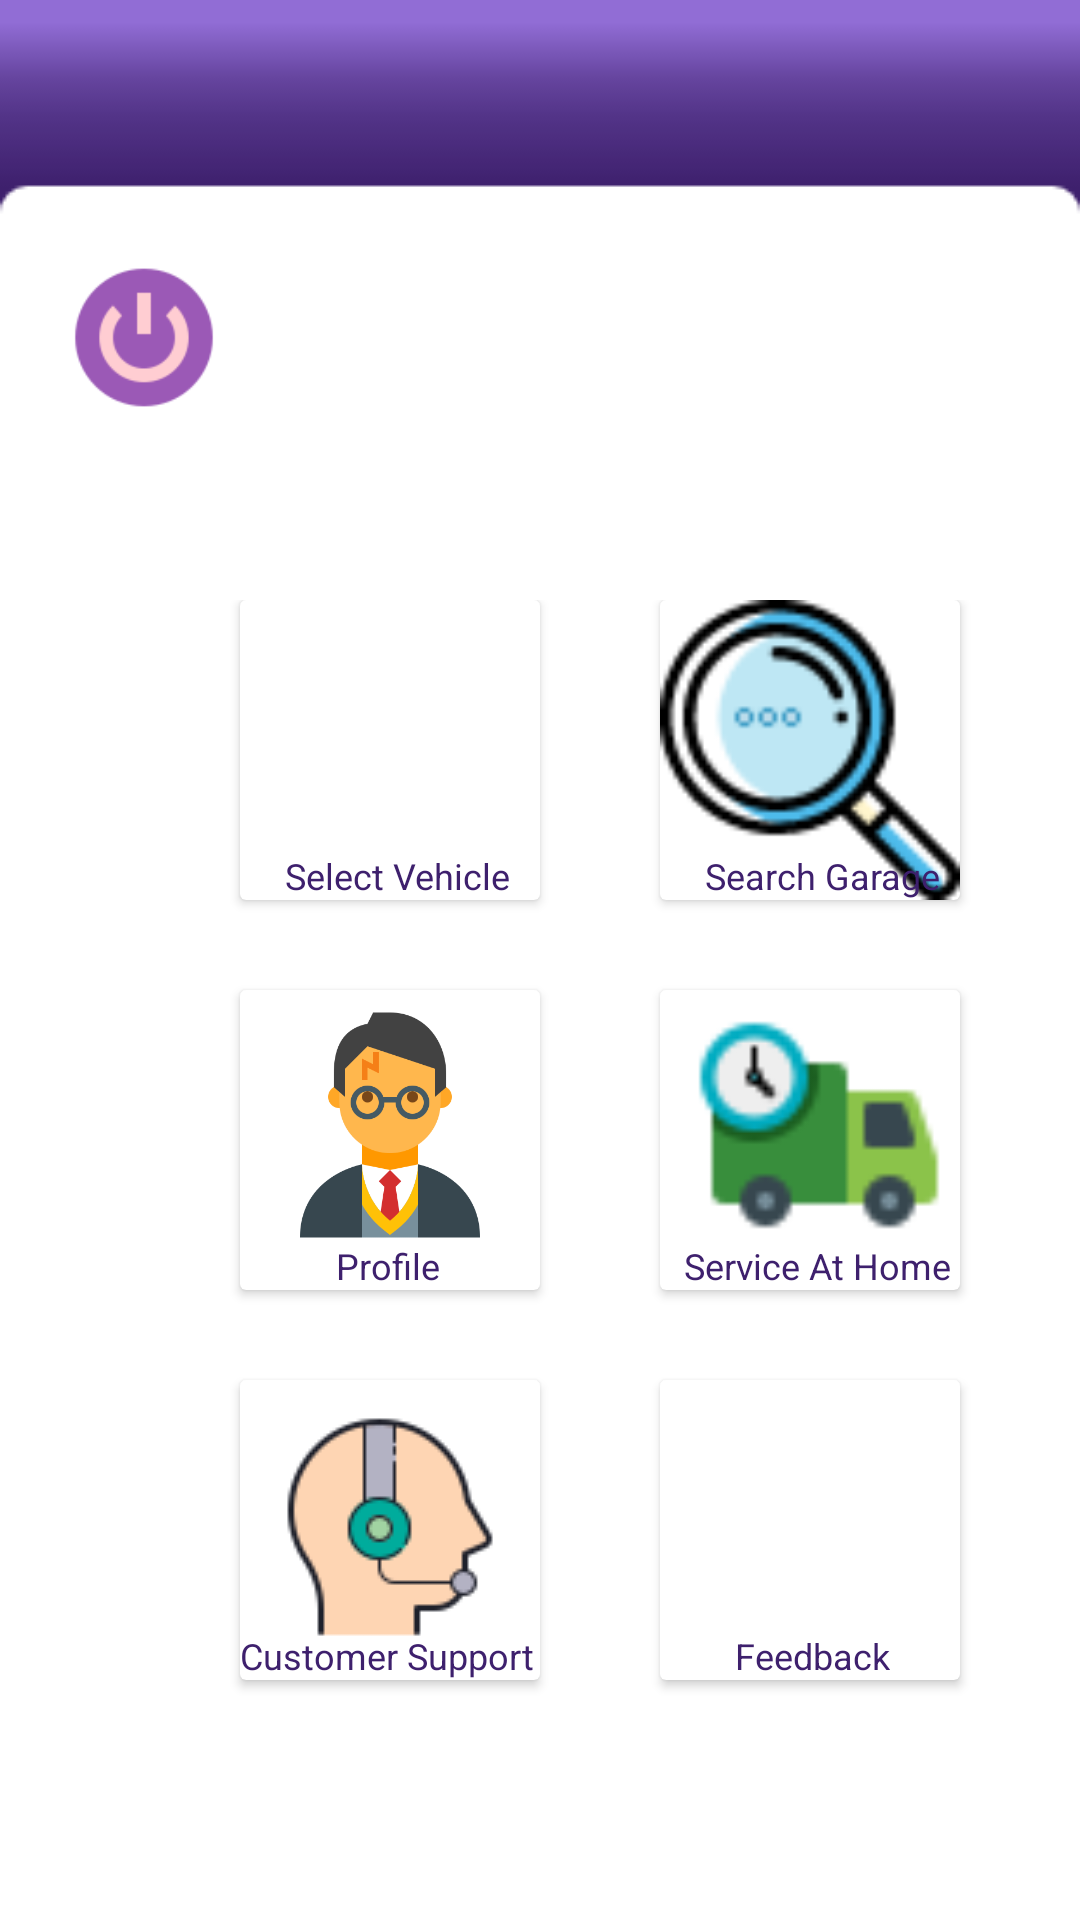

Icons on this 1080 × 1920 Android screen, each with its box as (x1, y1, x2, y2):
shutdown: (75, 268, 213, 407)
